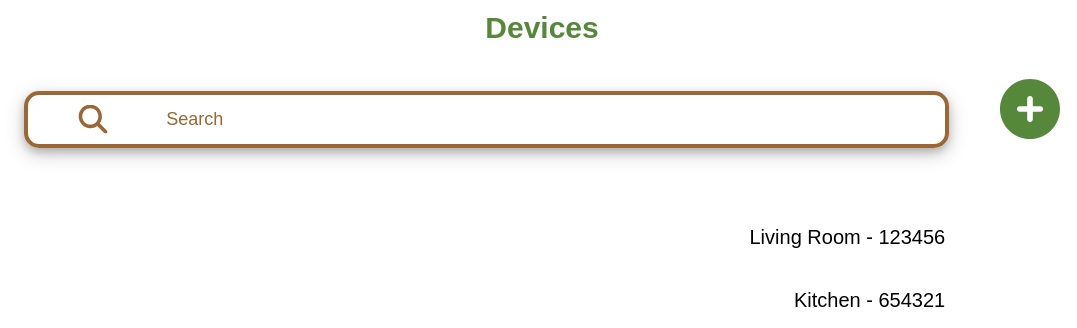
Test: DeviceMenu component › filters devices based on search term
Check: the heading "Living Room - 123456" is shown, box [750,226,945,249]
Check: the heading "Kitchen - 654321" is shown, box [794,289,945,312]
Type "Living" into the field with placeholder "Search" at (486, 119), box [24,90,949,148]
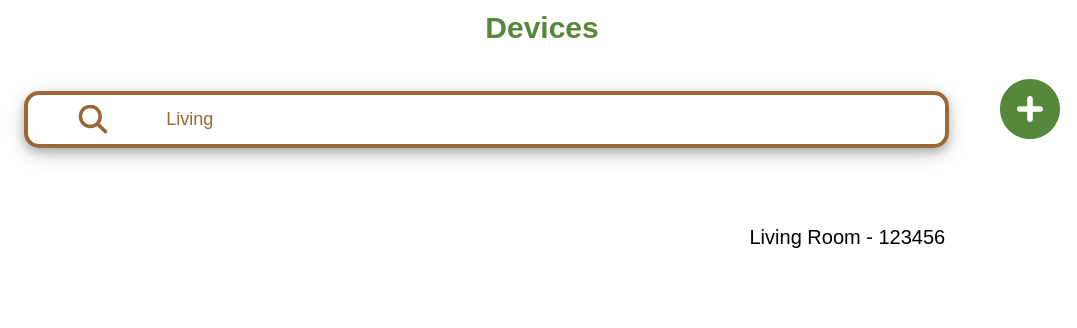
Check: the heading "Living Room - 123456" is shown, box [750,226,945,249]
Check: the heading "Kitchen - 654321" is gone
